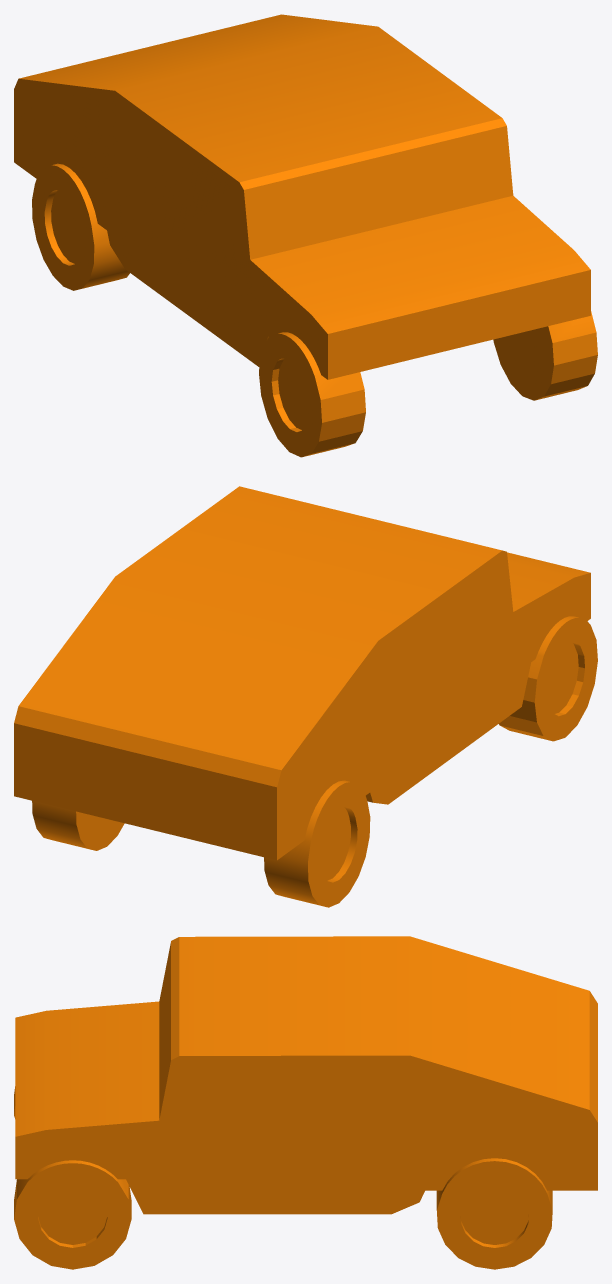
The model's file is Boardgame_Troop_Single_Token_Orange_01.fbx.
The picture shows the model from 3 angles, top to bottom: view 1: azimuth 30°, elevation 25°; view 2: azimuth 150°, elevation 25°; view 3: azimuth 270°, elevation 25°; orthographic projection. The views are drawn at different scales.
Parts seen in each view (by area): view 1: Model; view 2: Model; view 3: Model.
Part boxes in pixels (x1=…): Model: x1=14, y1=14, x2=597, y2=457; Model: x1=14, y1=486, x2=597, y2=907; Model: x1=14, y1=936, x2=597, y2=1269.
Size of the model in its own units: 136 by 107 by 269.
